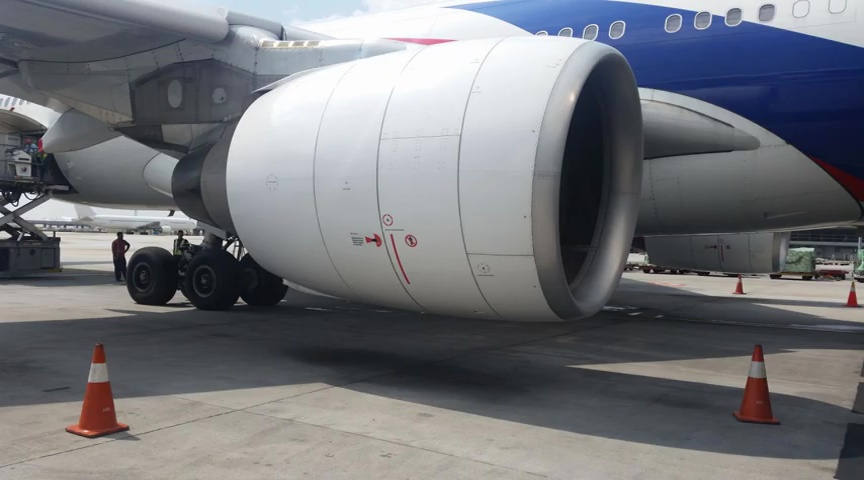safety_cone: (64, 341, 131, 440), (730, 344, 783, 427)
